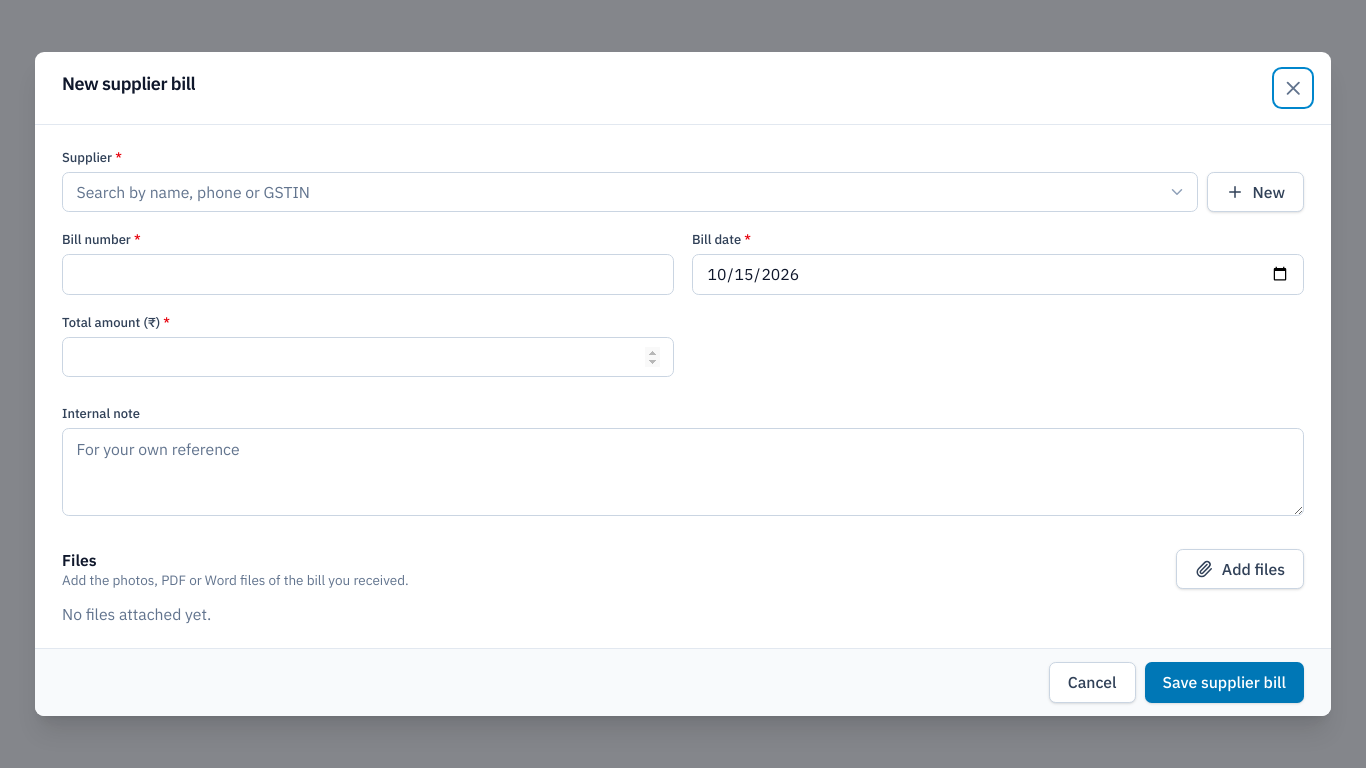
Test: a new supplier bill › refuses to save › with a total of 0
Click the dropdown named "Supplier".
click(630, 192)  # box [62,172,1198,212]
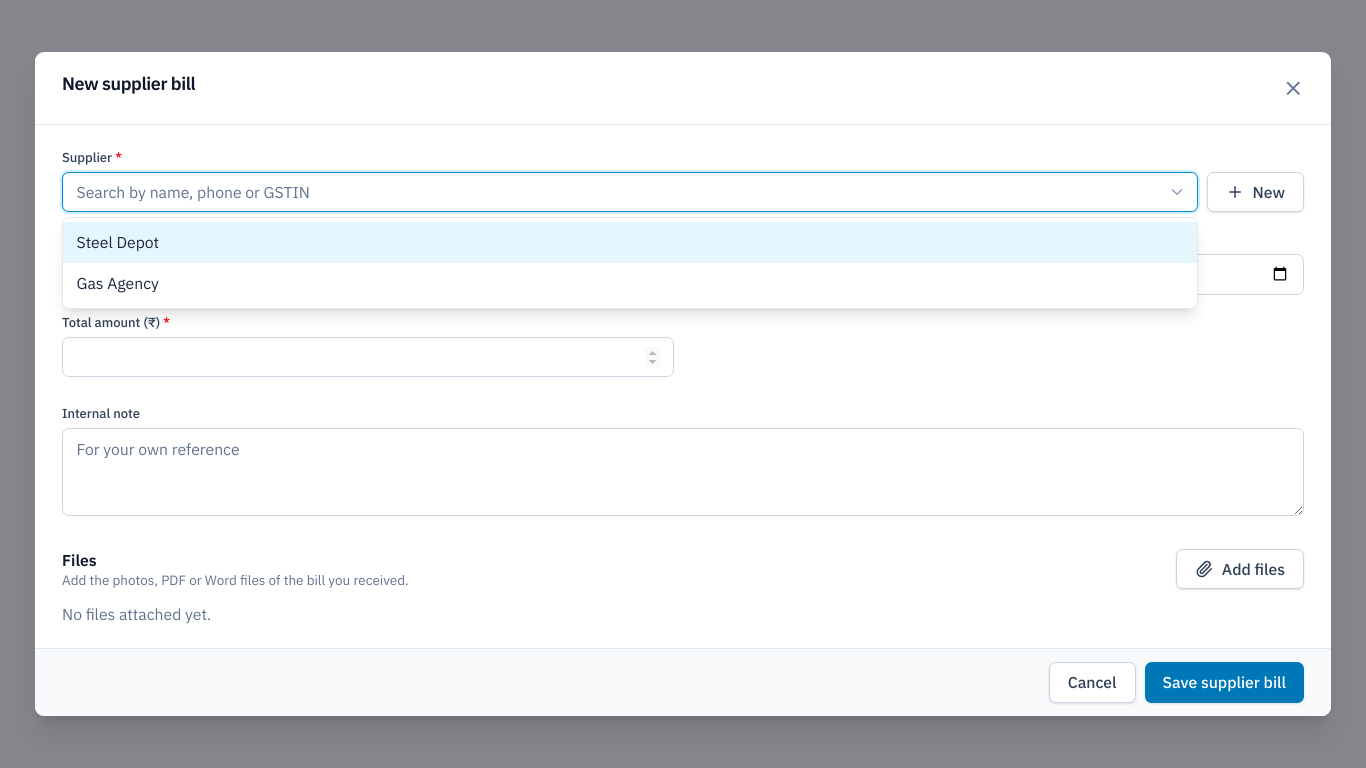
Click the option "Steel Depot".
click(118, 242)  # box [63,222,1196,262]
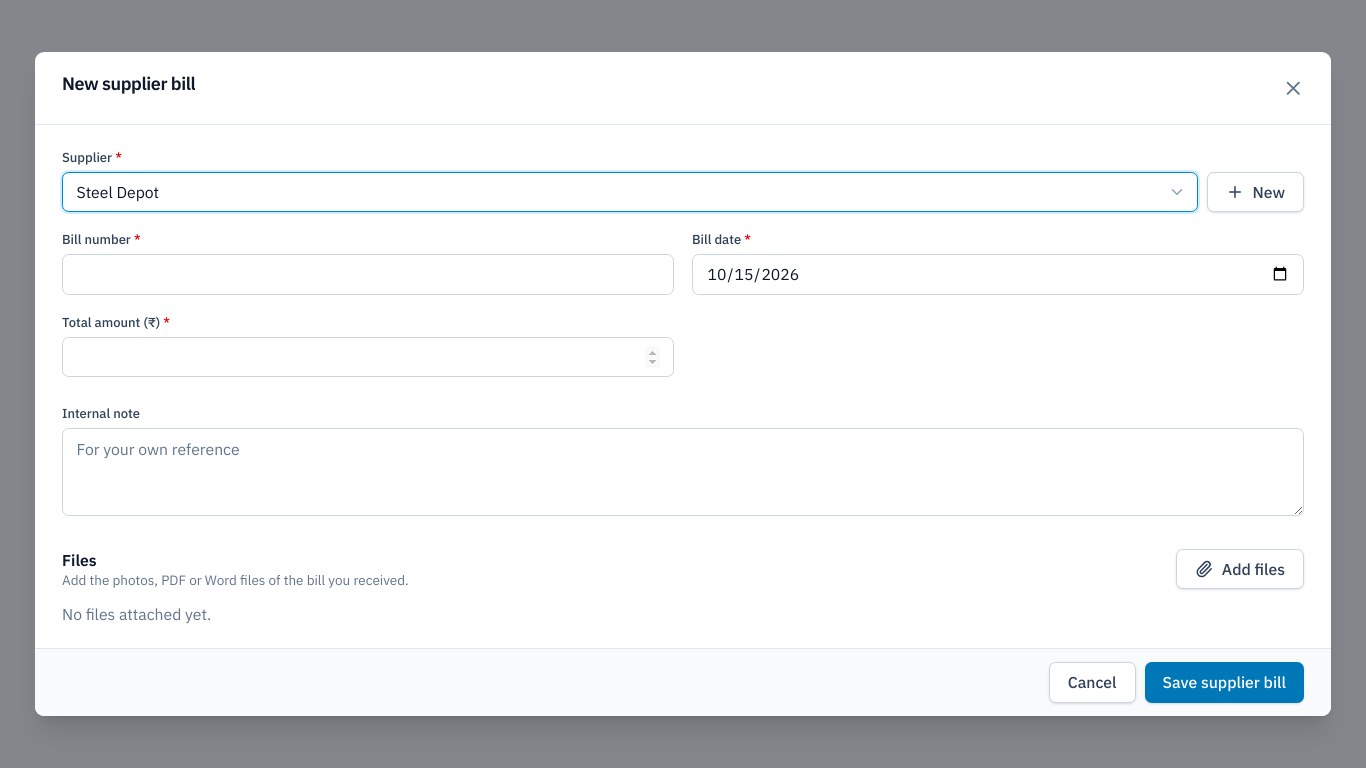
Type "SD-1" into the field labelled "Bill number".
click(368, 274); type("SD-1")  # box [62,254,674,294]
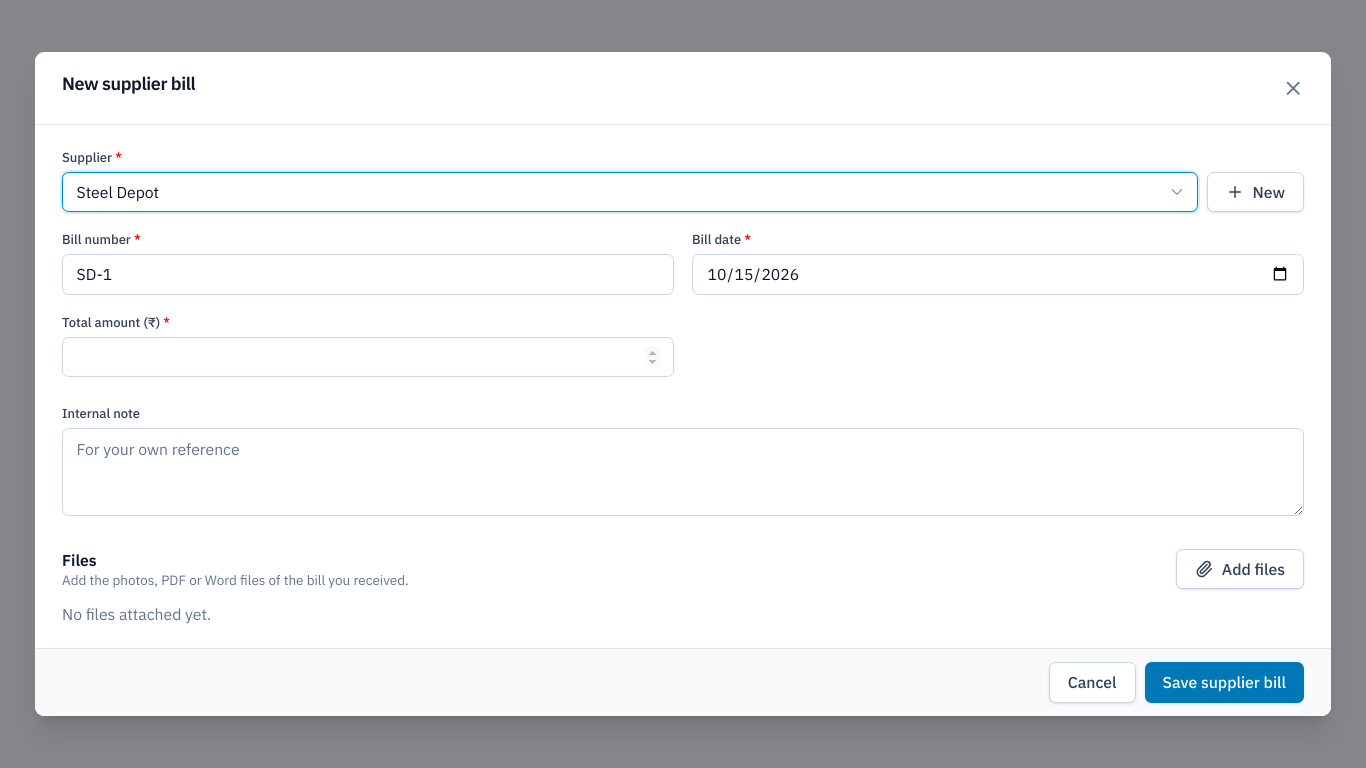
Type "0" into the number field labelled "Total amount".
click(368, 357); type("0")  # box [62,336,674,377]
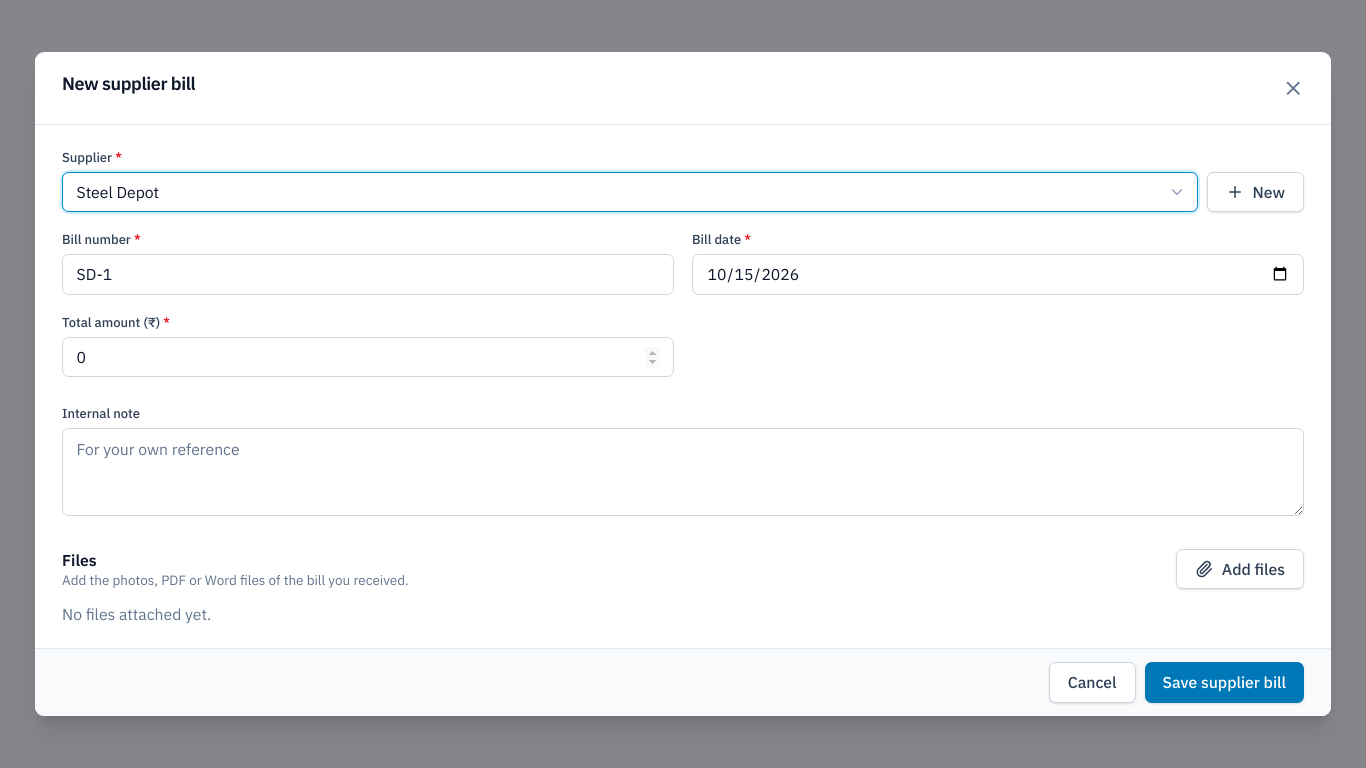
Click the button "Save supplier bill".
click(1224, 682)  # box [1145,662,1304,702]
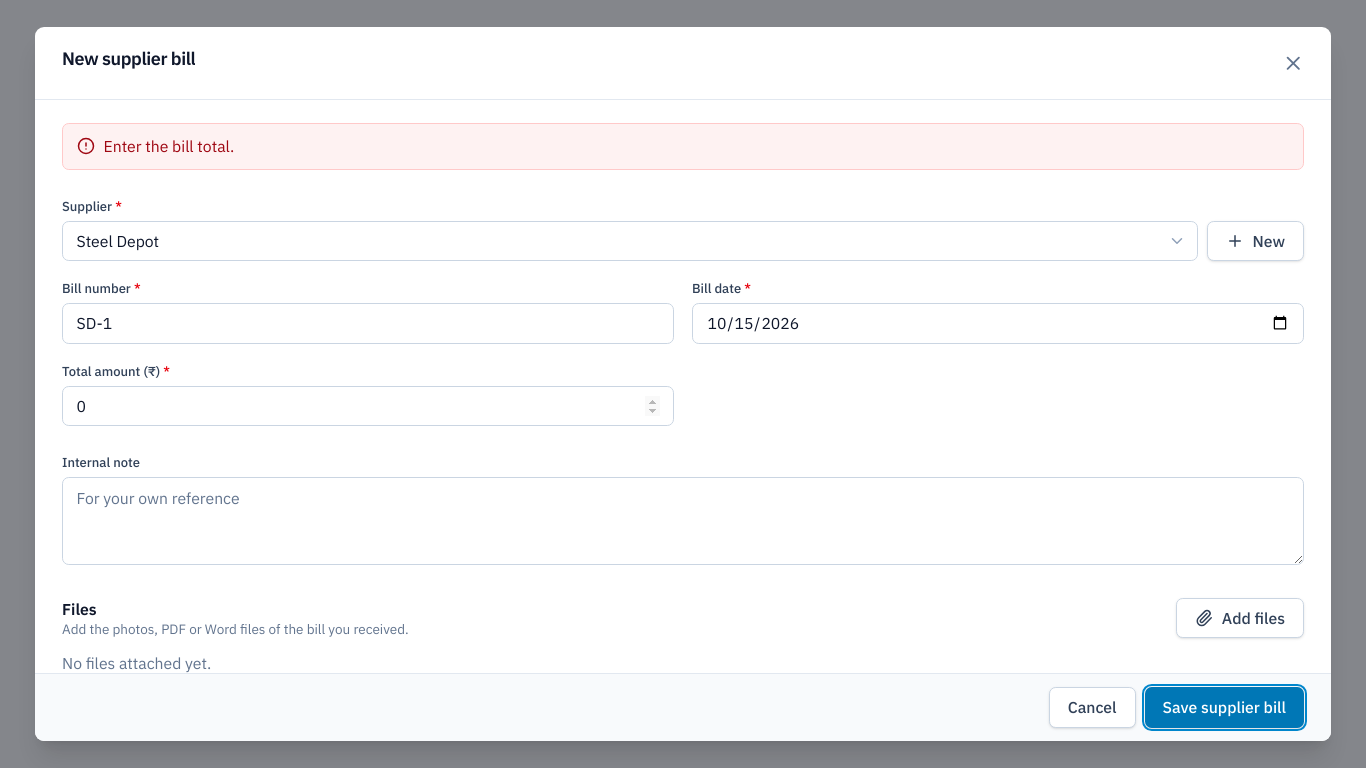
Expected: the message reads "Enter the bill total.", [104,136,234,156]
